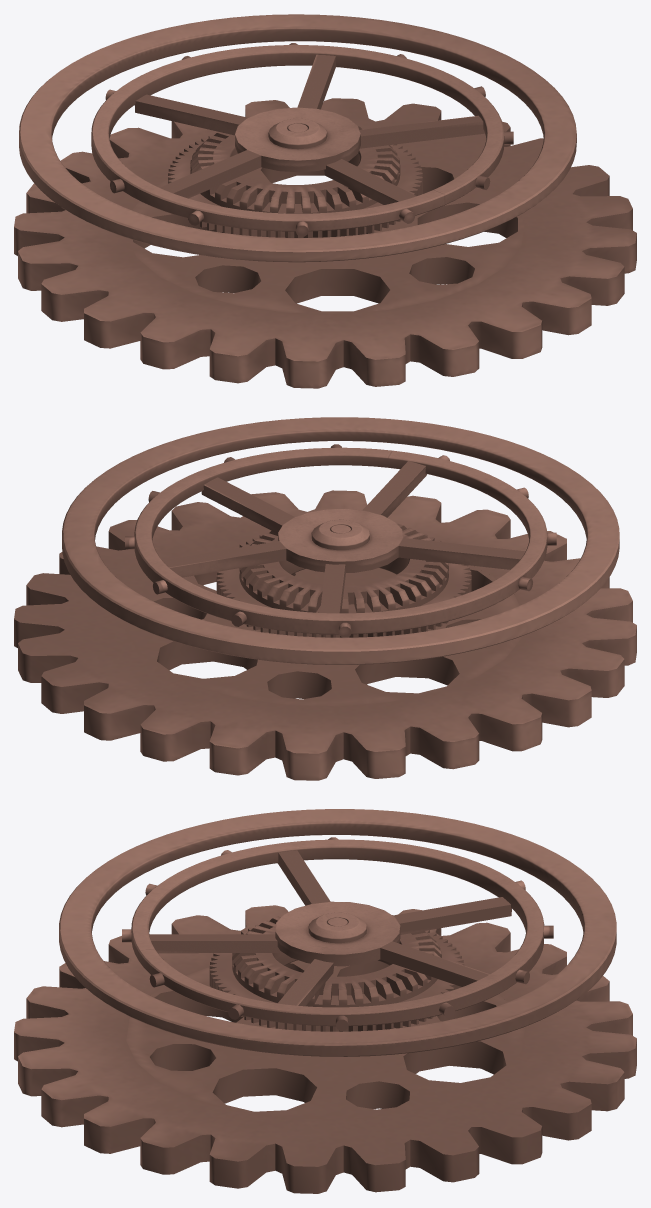
Rendered from relojengrane1.obj.
3 renders of one model, top to bottom at view 1: azimuth 30°, elevation 25°; view 2: azimuth 150°, elevation 25°; view 3: azimuth 270°, elevation 25°, orthographic.
Visible parts, largest first — view 1: Part_003_part_03_0.001; view 2: Part_003_part_03_0.001; view 3: Part_003_part_03_0.001.
Part boxes in pixels (x1,y1,x2,y2): Part_003_part_03_0.001: (14, 14, 636, 388); Part_003_part_03_0.001: (14, 417, 636, 780); Part_003_part_03_0.001: (14, 809, 636, 1193).
Size of the model in its own units: 2.23 by 0.5138 by 2.23.
